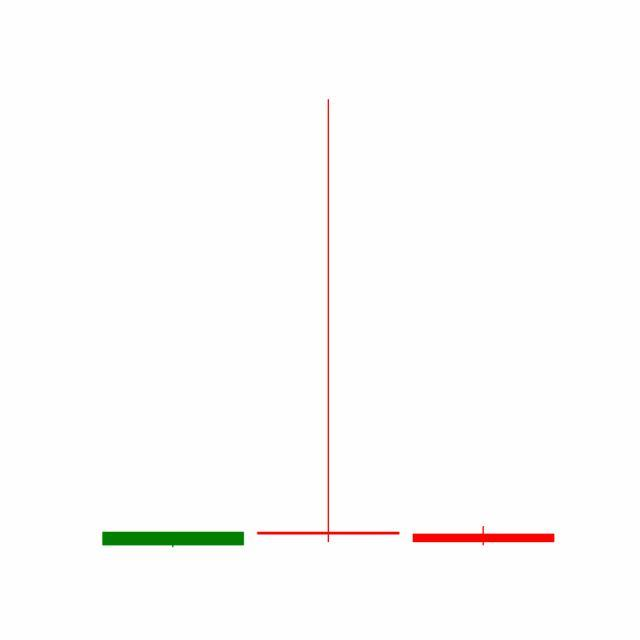Gravestone Doji: (250, 95, 407, 548)
